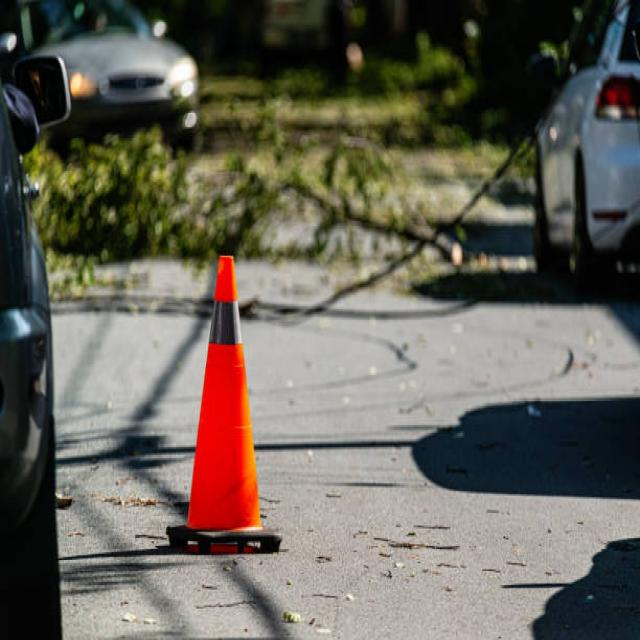Traffic Cone: (159, 201, 293, 575)
